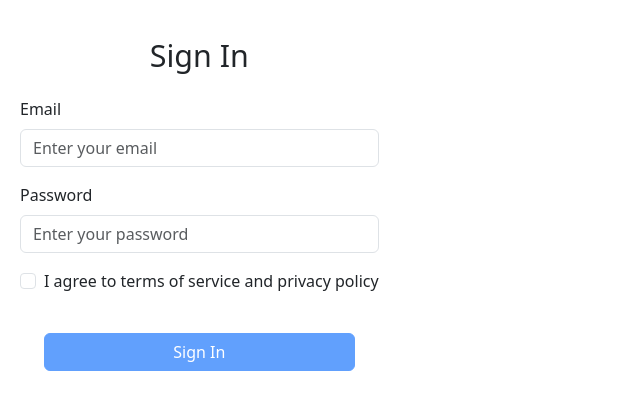
Login Form Validation › Yanlış email ve zayıf şifre girildiğinde hata mesajları ve submit butonu disabled olmalı
The width and height of the screenshot is (638, 416).
// Yanlış email gir
Type "Beyza" into the field with test id "email-input" at (200, 148), box [20,129,379,167]
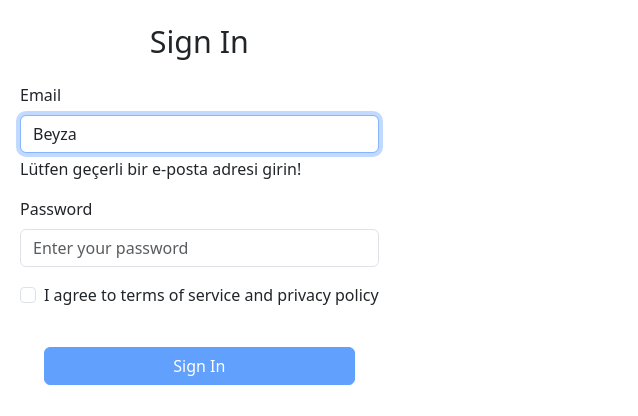
// Zayıf şifre gir
Type "deneme123" into the password field with test id "password-input" at (200, 248), box [20,229,379,267]
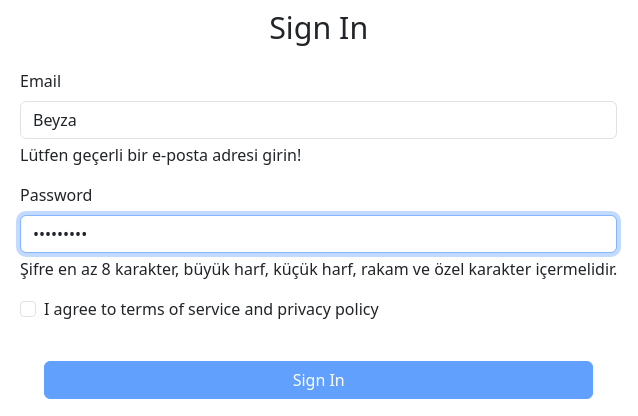
Now the text with test id "email-error" reads "Lütfen geçerli bir e-posta adresi girin!", box [20,144,301,166]
Now the text with test id "password-error" shows "Şifre en az 8 karakter, büyük harf, küçük harf, rakam ve özel karakter içermelidir.", box [20,257,617,281]
